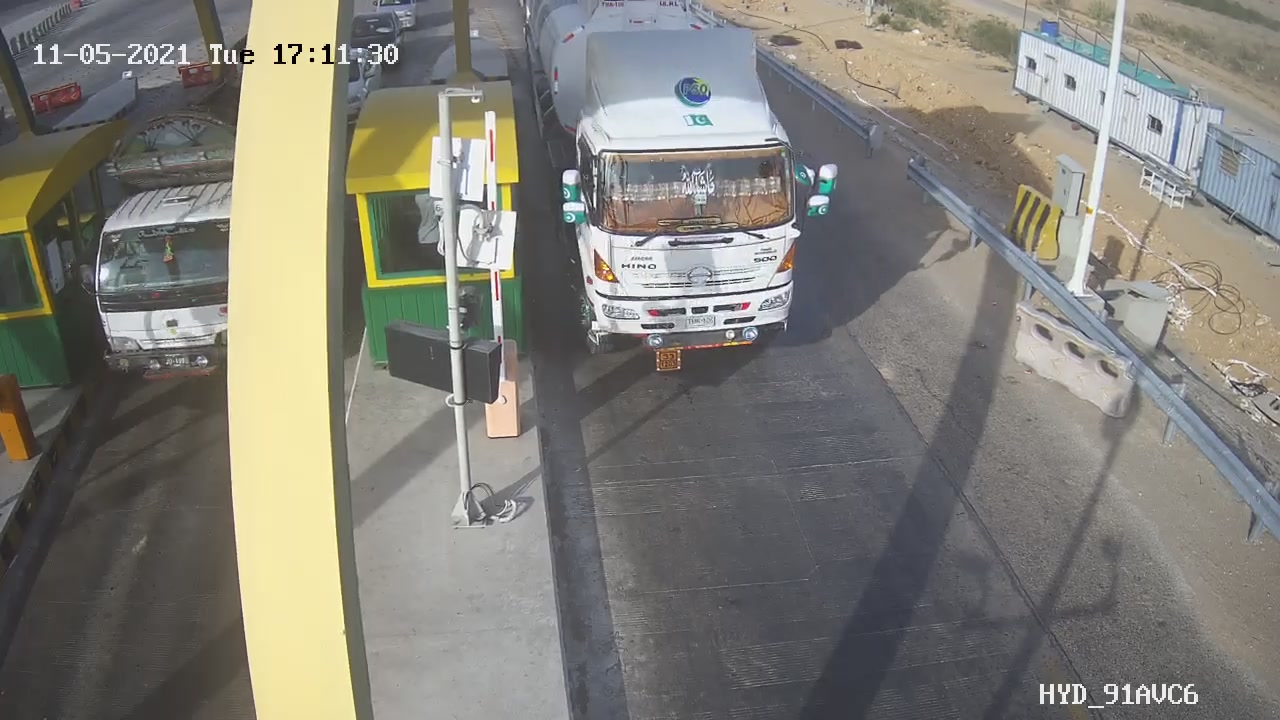F6: (508, 1, 860, 400)
